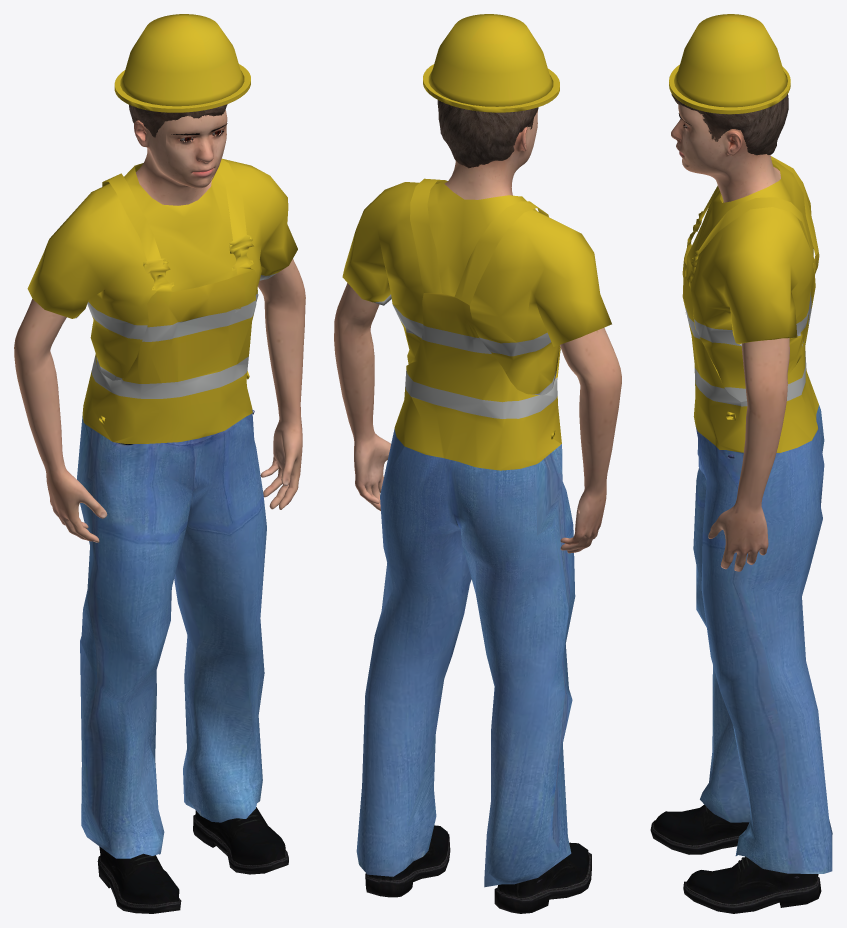
The model's file is premium-construction-worker-drew.glb.
The picture shows the model from 3 angles, left to right: view 1: azimuth 30°, elevation 25°; view 2: azimuth 150°, elevation 25°; view 3: azimuth 270°, elevation 25°; orthographic projection. The views are drawn at different scales.
Visible parts, largest first — view 1: male_worksuit01, Drew | anatomical body, Worker | original hardhat shell, shoes03, Worker | integral hardhat brim, short02; view 2: male_worksuit01, Drew | anatomical body, Worker | original hardhat shell, shoes03, short02, Worker | integral hardhat brim; view 3: male_worksuit01, Drew | anatomical body, shoes03, Worker | original hardhat shell, short02, Worker | integral hardhat brim.
Part boxes in pixels (x1,y1,x2,y2): male_worksuit01: (27,158,297,858); Drew | anatomical body: (14,110,305,542); Worker | original hardhat shell: (120,14,244,106); shoes03: (97,807,288,913); Worker | integral hardhat brim: (114,64,250,112); short02: (129,104,227,137); male_worksuit01: (342,178,611,887); Drew | anatomical body: (334,109,621,553); Worker | original hardhat shell: (428,14,553,106); shoes03: (365,825,591,913); short02: (437,100,538,168); Worker | integral hardhat brim: (423,64,559,112); male_worksuit01: (682,156,832,873); Drew | anatomical body: (671,104,789,571); shoes03: (650,804,821,913); Worker | original hardhat shell: (674,14,787,107); short02: (671,94,788,155); Worker | integral hardhat brim: (669,64,790,114).
Bounding box in the file's own units: 0.6471 × 1.89 × 0.3671.
Materials: 11 (11 with a texture image).
